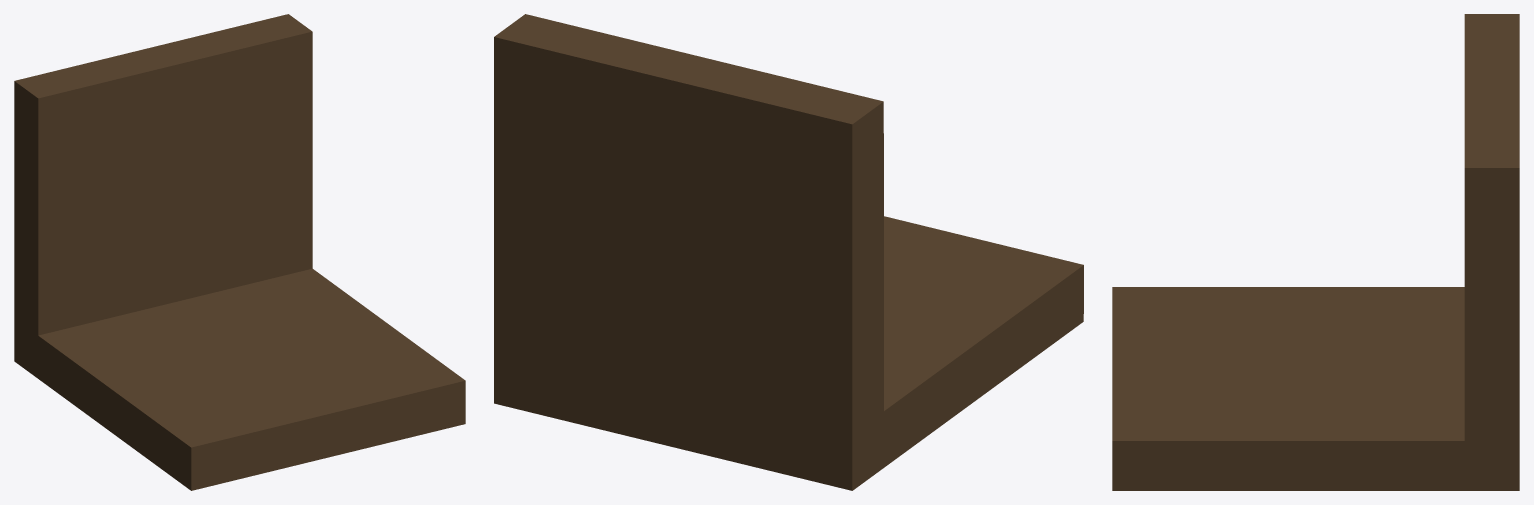
Rendered from Itr_Officechair_Seat_04.FBX.
3 renders of one model, left to right at view 1: azimuth 30°, elevation 25°; view 2: azimuth 150°, elevation 25°; view 3: azimuth 270°, elevation 25°, orthographic. The views are drawn at different scales.
Visible parts, largest first — view 1: Itr_Officechair_Seat_04; view 2: Itr_Officechair_Seat_04; view 3: Itr_Officechair_Seat_04.
Part boxes in pixels (x1=…): Itr_Officechair_Seat_04: x1=14, y1=14, x2=465, y2=490; Itr_Officechair_Seat_04: x1=494, y1=14, x2=1083, y2=490; Itr_Officechair_Seat_04: x1=1112, y1=14, x2=1519, y2=490.
Size of the model in its own units: 25.33 by 24.73 by 28.29.
